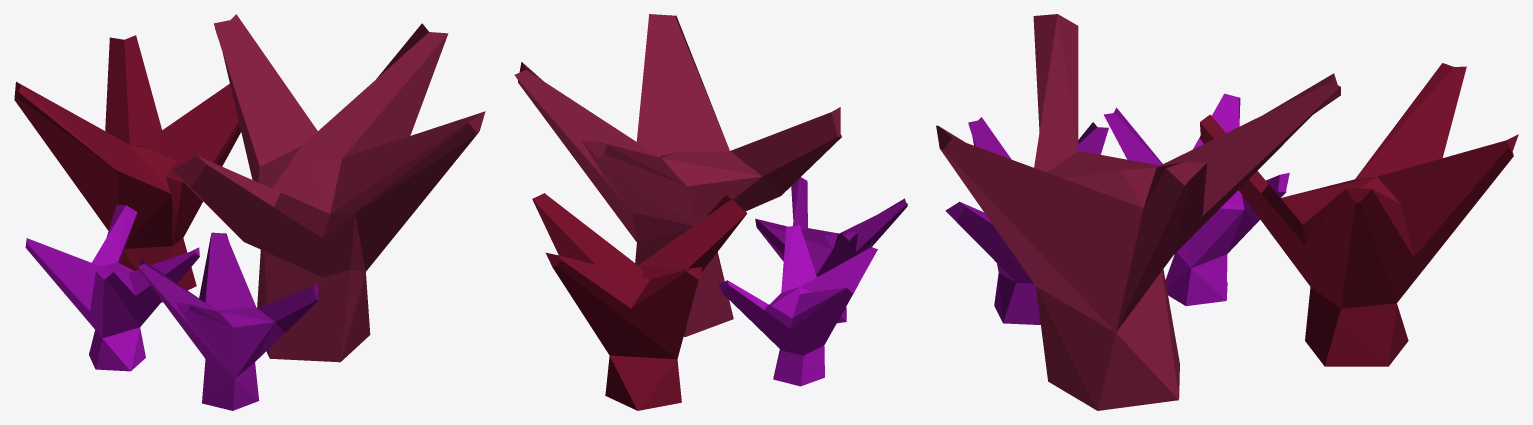
The model's file is Coral1MIX.glb.
3 views of the same model, side by side, from view 1: azimuth 30°, elevation 25°; view 2: azimuth 150°, elevation 25°; view 3: azimuth 270°, elevation 25° (orthographic). The views are drawn at different scales.
Parts seen in each view (by area): view 1: Icosphere.001, Icosphere, Icosphere.003, Icosphere.004; view 2: Icosphere.001, Icosphere, Icosphere.004, Icosphere.003; view 3: Icosphere.001, Icosphere, Icosphere.004, Icosphere.003.
Part boxes in pixels (left/top/right/bottom): Icosphere.001: left=172, top=14, right=485, bottom=362; Icosphere: left=14, top=35, right=240, bottom=302; Icosphere.003: left=138, top=232, right=318, bottom=410; Icosphere.004: left=25, top=204, right=199, bottom=371; Icosphere.001: left=514, top=14, right=841, bottom=336; Icosphere: left=532, top=193, right=747, bottom=410; Icosphere.004: left=718, top=224, right=877, bottom=386; Icosphere.003: left=755, top=177, right=907, bottom=323; Icosphere.001: left=936, top=14, right=1340, bottom=410; Icosphere: left=1200, top=63, right=1518, bottom=366; Icosphere.004: left=1104, top=93, right=1289, bottom=305; Icosphere.003: left=945, top=117, right=1108, bottom=324.
Size of the model in its own units: 4.17 by 2.59 by 4.42.
